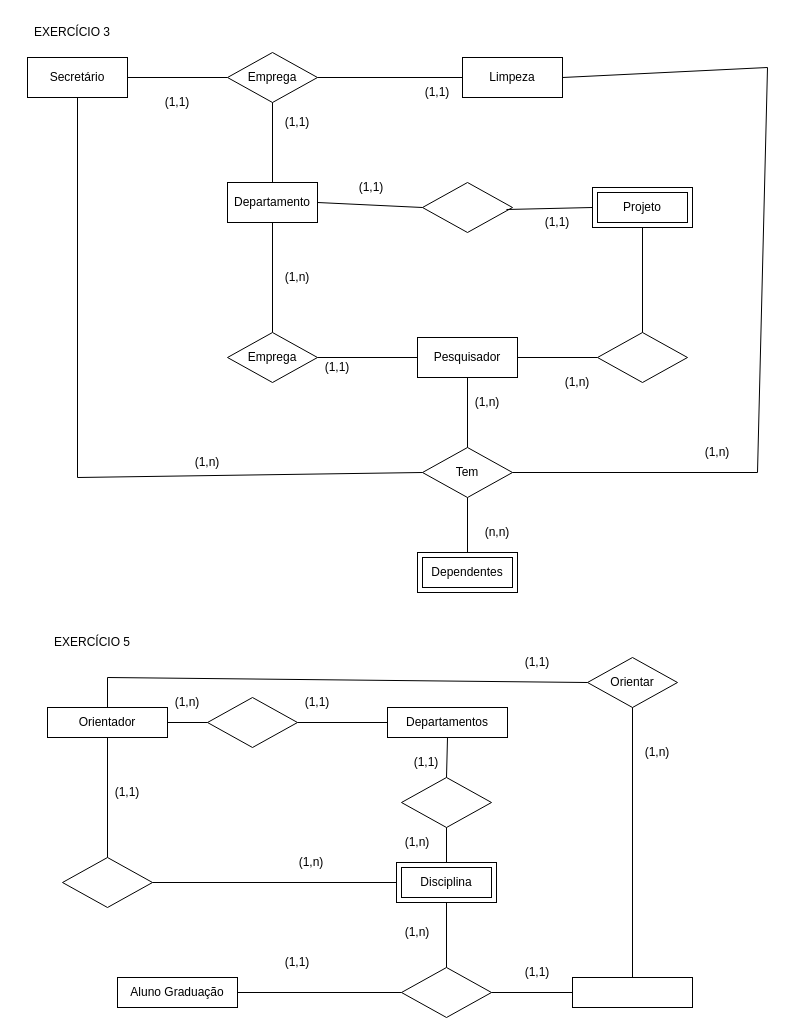
The diagram is 786 pixels wide and 1035 high, and some of its shapes have lost their labels. Each missing label, with the centre of its shape:
Aloca: the point at 467,207
Alocado: the point at 252,722
Aluno Pós-graduação: the point at 632,992
Cursa: the point at 446,992
Ministrar: the point at 107,882
Oferece: the point at 446,802
Trabalha: the point at 642,357
